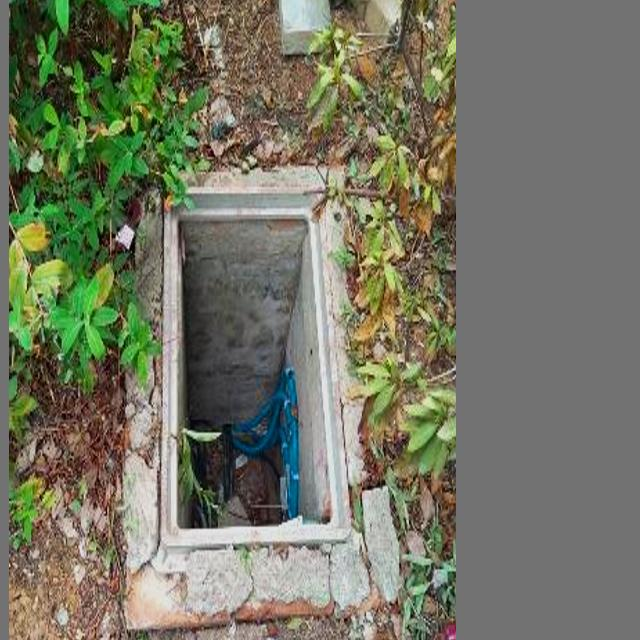lose: (156, 186, 350, 545)
